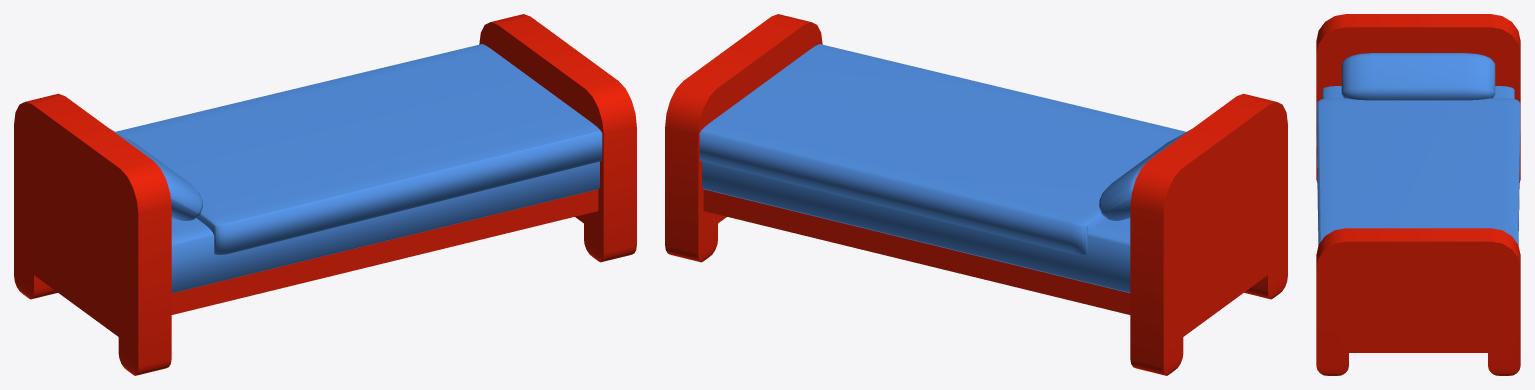
Rendered from Bett.glb.
3 views of the same model, side by side, from view 1: azimuth 30°, elevation 25°; view 2: azimuth 150°, elevation 25°; view 3: azimuth 270°, elevation 25° (orthographic). The views are drawn at different scales.
Parts seen in each view (by area): view 1: Cube.010, Cube.013, Cube.015; view 2: Cube.010, Cube.013, Cube.015; view 3: Cube.013, Cube.010, Cube.015.
Part boxes in pixels (bbox=[...]): Cube.010: bbox=[115, 44, 602, 293]; Cube.013: bbox=[14, 14, 636, 375]; Cube.015: bbox=[110, 129, 202, 220]; Cube.010: bbox=[699, 44, 1186, 293]; Cube.013: bbox=[665, 14, 1287, 375]; Cube.015: bbox=[1099, 129, 1191, 220]; Cube.013: bbox=[1316, 14, 1520, 375]; Cube.010: bbox=[1316, 86, 1520, 244]; Cube.015: bbox=[1341, 53, 1495, 100].
Size of the model in its own units: 4.63 by 1.76 by 2.
